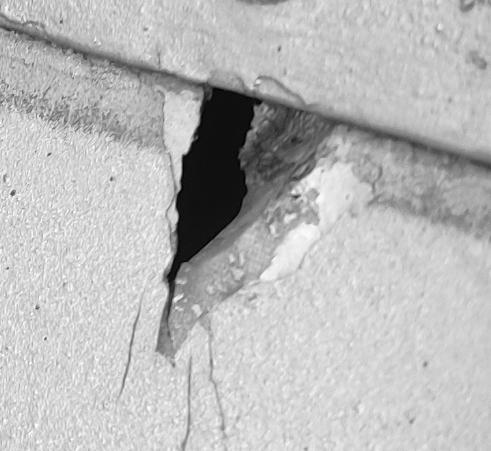crack: (0, 1, 491, 451)
